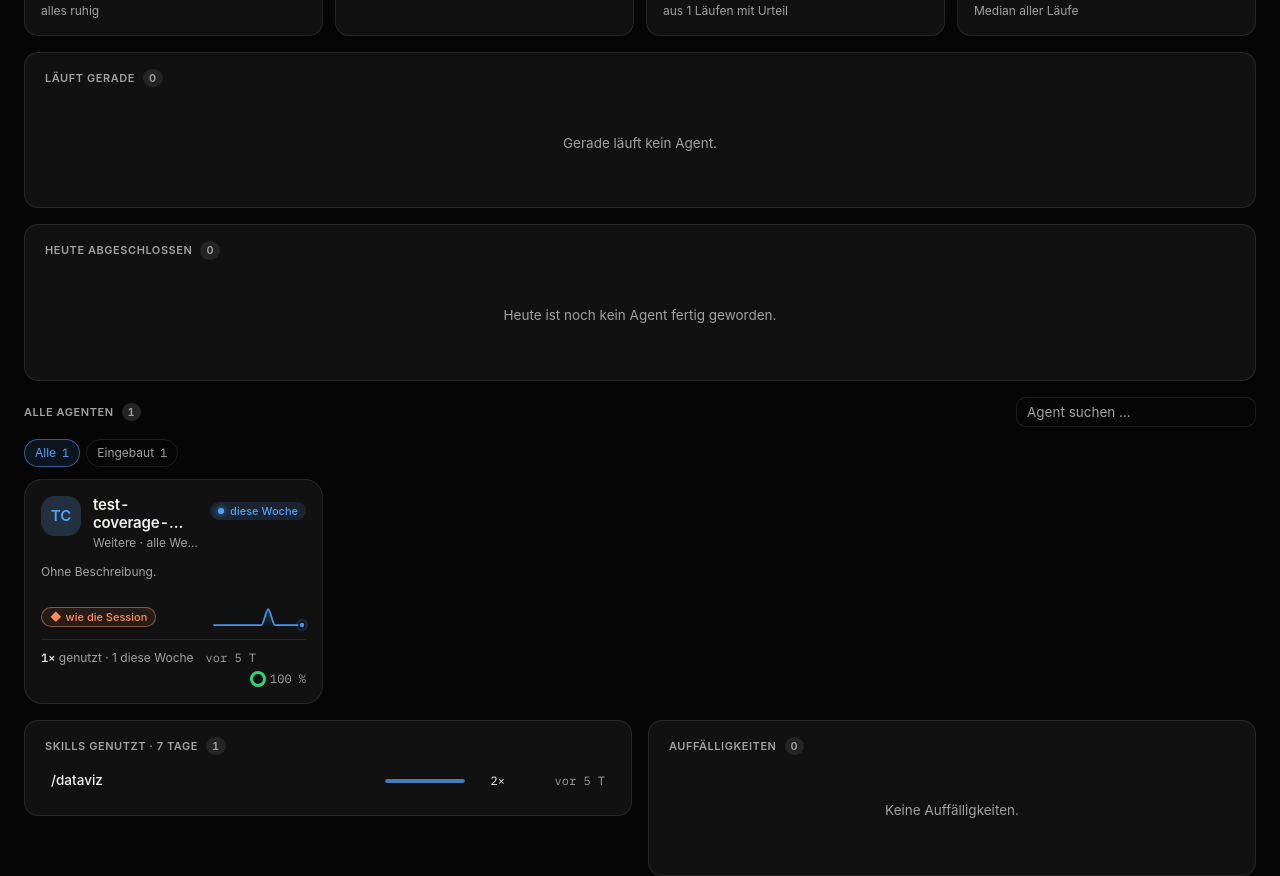
AgentsView › zeigt Skill-Nutzung und öffnet die Skill-Großansicht
The image size is (1280, 876).
(page scrolled)
Click the text "/dataviz". click: (77, 780)
box: [51,772,103,788]
(page scrolled)
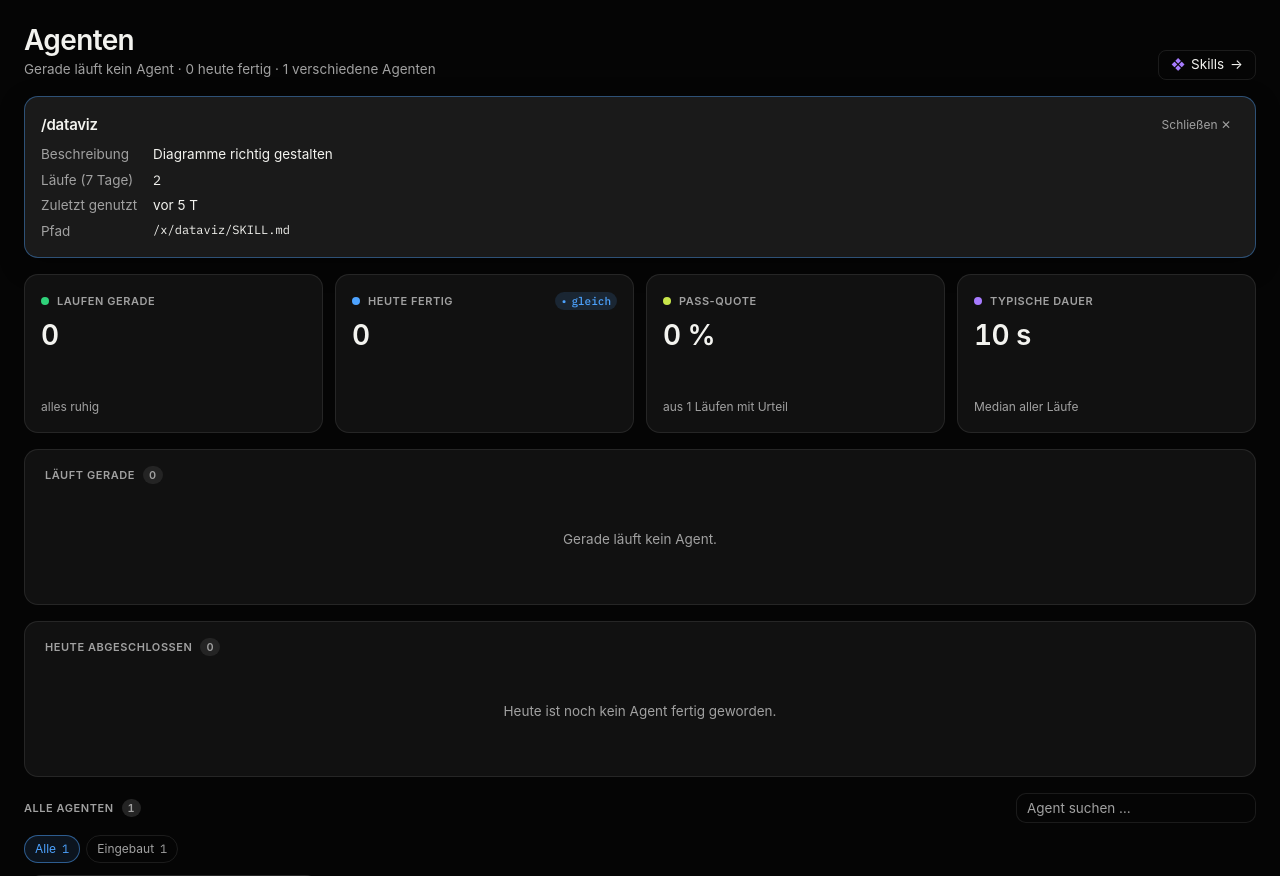
Expected: the element with test id "agent-detail" is shown, [24,96,1256,258]
Expected: the text "Diagramme richtig gestalten" is shown, [153,146,333,162]
